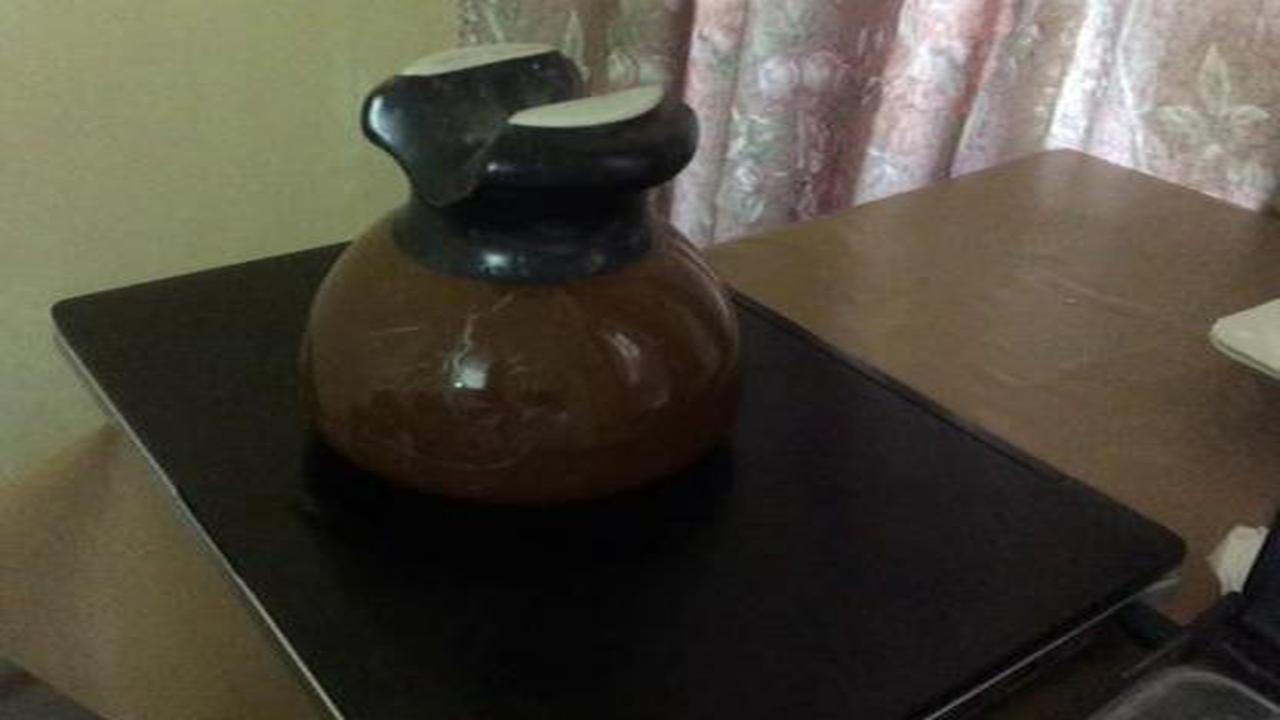insulator_pin: (286, 30, 770, 527)
